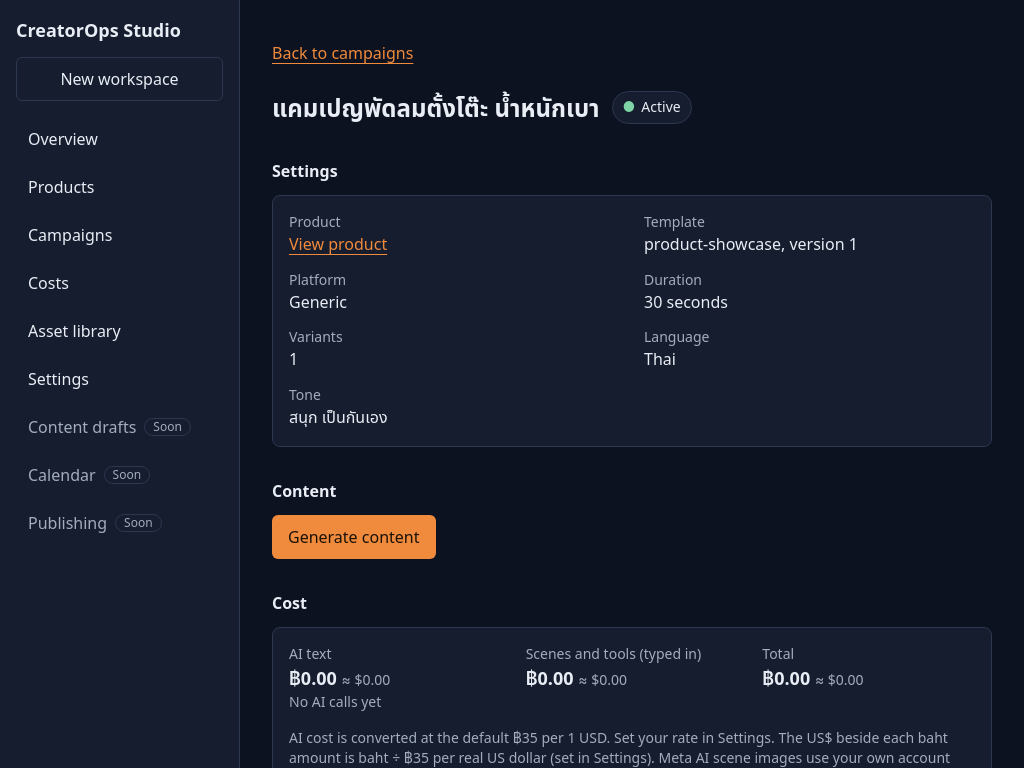
Test case: CampaignPage › sends an Idempotency-Key with the generate click and shows the new job
Step 1. Click the button "Generate content" → point(354, 537), box [272, 515, 436, 559]
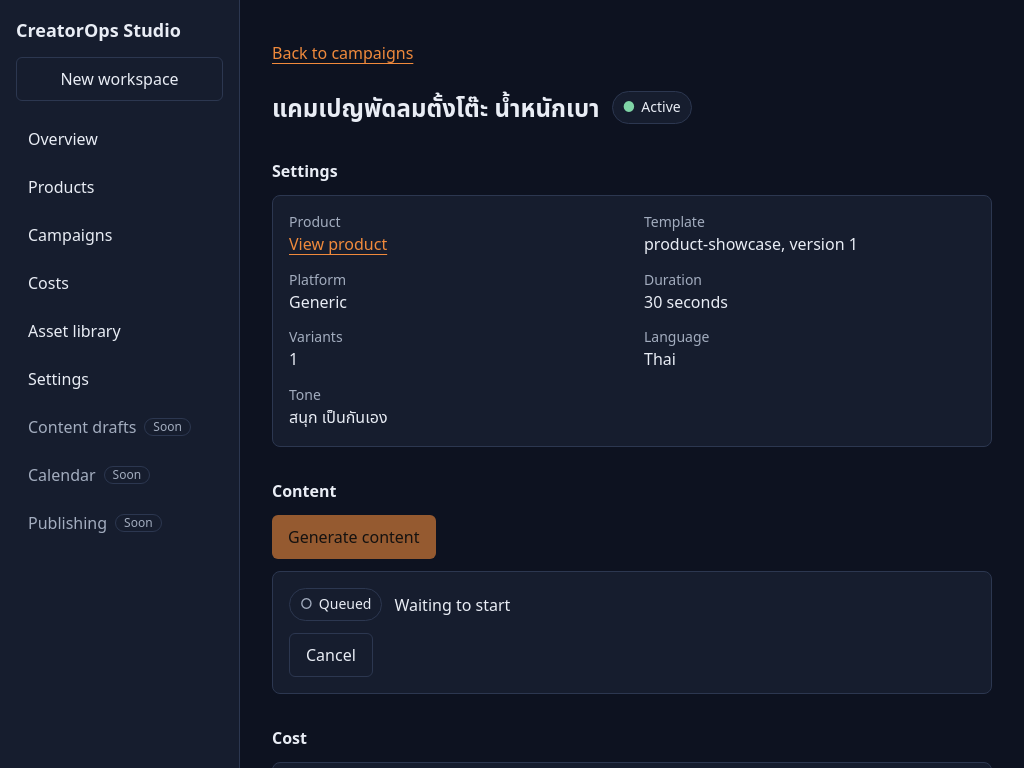
expect the text "Waiting to start" is shown: met, box [394, 592, 510, 618]
